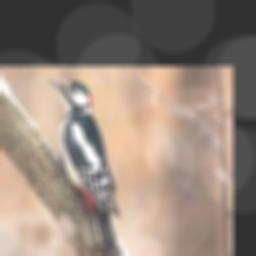Woodpecker: (48, 78, 119, 256)
